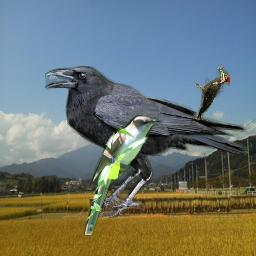Crow: (45, 66, 250, 218)
Cuckoo: (84, 115, 163, 235)
Woodpecker: (194, 67, 230, 121)
